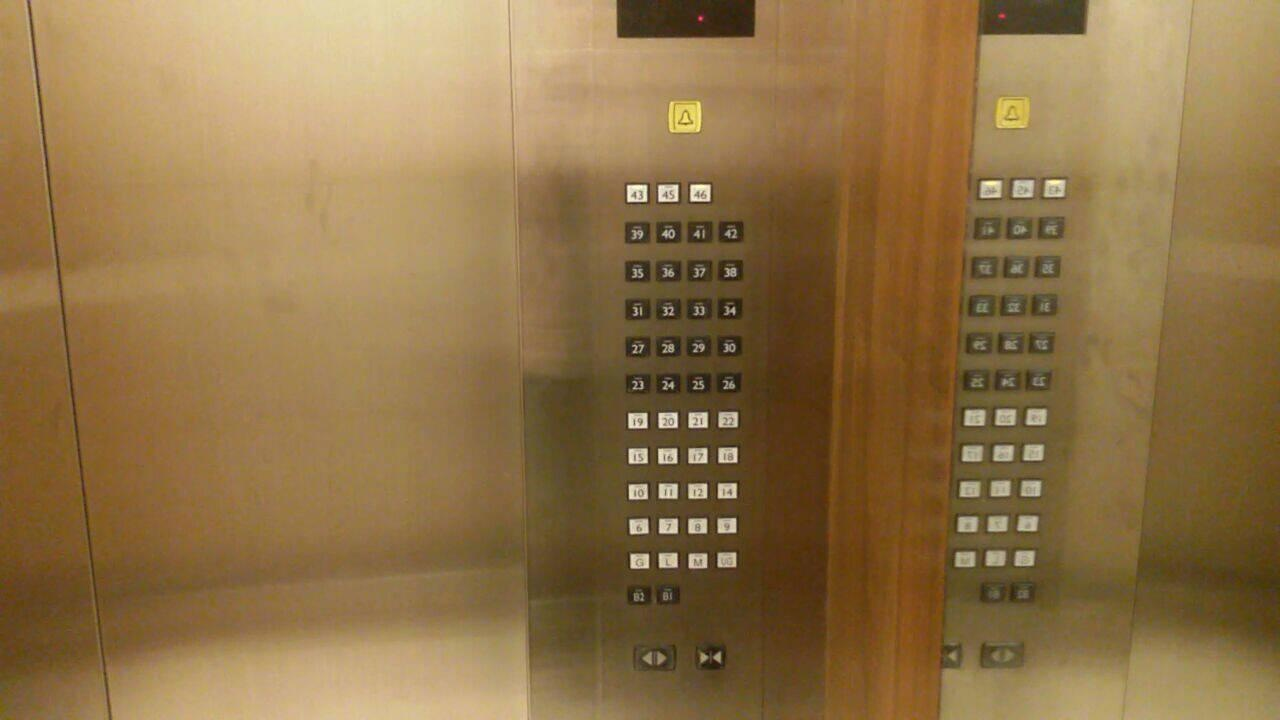10: (626, 480, 650, 502)
11: (656, 479, 680, 501)
12: (686, 479, 710, 501)
14: (715, 479, 739, 501)
15: (627, 444, 651, 466)
16: (656, 444, 680, 466)
17: (686, 444, 710, 466)
18: (716, 444, 740, 466)
19: (626, 408, 650, 430)
20: (656, 408, 680, 430)
21: (686, 408, 710, 430)
22: (716, 408, 740, 430)
23: (625, 371, 652, 394)
24: (655, 371, 682, 394)
25: (684, 371, 711, 394)
26: (715, 371, 742, 394)
27: (624, 333, 651, 357)
28: (655, 333, 682, 357)
29: (685, 333, 712, 357)
30: (715, 333, 742, 357)
31: (623, 295, 652, 320)
32: (654, 295, 683, 320)
33: (684, 296, 713, 321)
34: (716, 296, 745, 321)
35: (623, 257, 652, 282)
36: (654, 257, 683, 282)
37: (685, 257, 714, 282)
38: (716, 257, 745, 282)
39: (623, 219, 652, 244)
40: (654, 219, 683, 244)
41: (685, 219, 714, 244)
42: (717, 219, 746, 244)
43: (623, 180, 652, 205)
45: (654, 180, 683, 205)
46: (686, 180, 715, 205)
6: (627, 514, 651, 536)
7: (657, 514, 681, 536)
8: (685, 514, 709, 536)
9: (714, 514, 738, 536)
B1: (657, 584, 681, 606)
B2: (628, 585, 652, 607)
G: (628, 550, 652, 572)
L: (656, 550, 680, 572)
M: (686, 550, 710, 572)
UG: (715, 549, 739, 571)
alarm: (667, 97, 703, 135), (995, 94, 1031, 132)
close: (692, 642, 730, 671)
open: (631, 643, 679, 672), (979, 640, 1027, 669)
unknown: (976, 177, 1005, 202), (1009, 176, 1038, 201), (1040, 176, 1069, 201), (973, 215, 1002, 240), (1006, 215, 1035, 240), (1036, 215, 1065, 240), (1035, 254, 1064, 279), (1003, 255, 1032, 280), (972, 256, 1001, 281), (968, 293, 997, 318), (1000, 293, 1029, 318), (1030, 293, 1059, 318), (1029, 330, 1058, 355), (997, 330, 1026, 355), (965, 332, 994, 357), (964, 367, 993, 392), (995, 368, 1024, 393), (1025, 367, 1054, 392), (954, 511, 980, 537), (986, 509, 1012, 535), (1015, 510, 1041, 536), (952, 545, 978, 571), (1012, 578, 1038, 604), (1024, 404, 1050, 429), (993, 404, 1019, 429), (961, 404, 987, 429), (959, 441, 985, 466), (989, 440, 1015, 465), (1021, 439, 1047, 464), (1017, 474, 1043, 499), (987, 475, 1013, 500), (957, 476, 983, 501), (1013, 545, 1039, 570), (983, 546, 1009, 571), (981, 581, 1007, 606)
